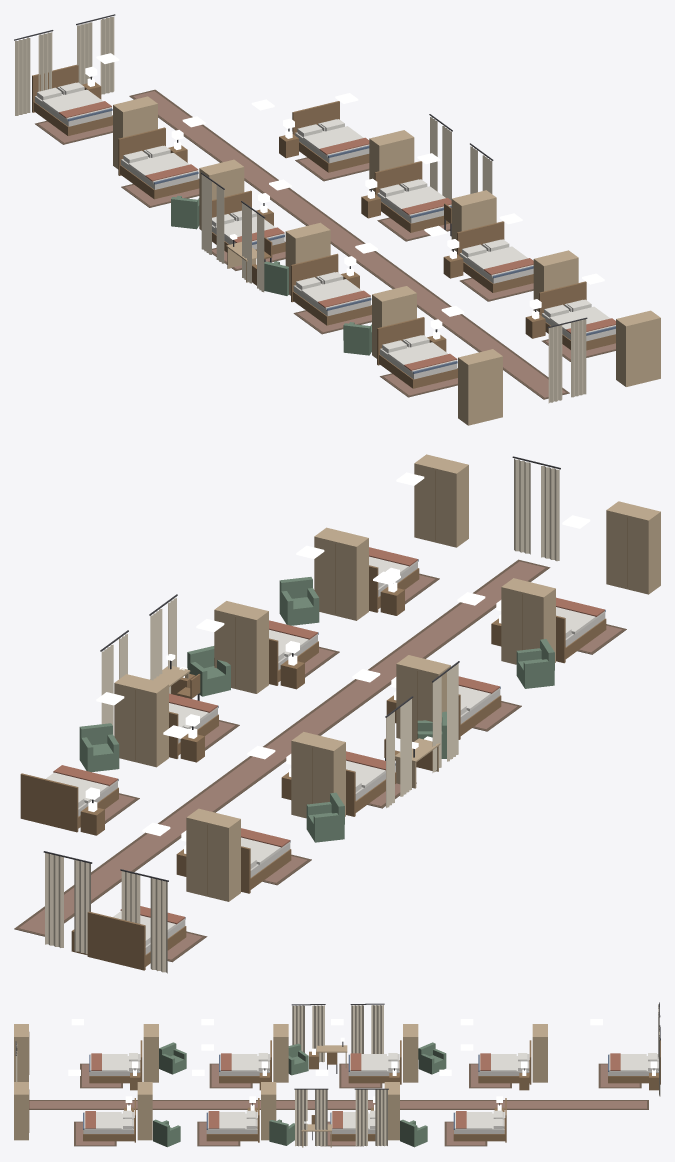
Rendered from fine-s4.glb.
3 views of the same model, one above another, from view 1: azimuth 30°, elevation 25°; view 2: azimuth 150°, elevation 25°; view 3: azimuth 270°, elevation 25° (orthographic). The views are drawn at different scales.
Visible parts, largest first — view 1: soft-s4, dresser.030, dresser.035, bed-frame.032, bed-frame.035, bed-frame.034, bed-frame.029, bed-frame.027, bed-frame.031, bed-frame.028, bed-frame.030, dresser.031 (+10 smaller); view 2: soft-s4, dresser.031, dresser.035, dresser.030, dresser.029, dresser.027, dresser.028, dresser.032, dresser.034, bed-frame.031, bed-frame.027, dresser.033 (+13 smaller); view 3: soft-s4, dresser.031, dresser.032, dresser.029, dresser.033, dresser.034, dresser.030, dresser.035, bed-frame.027, bed-frame.029, dresser.028, bed-frame.030 (+14 smaller).
Part boxes in pixels (bbox=[...]): soft-s4: bbox=[14, 14, 615, 403]; dresser.030: bbox=[616, 310, 660, 386]; dresser.035: bbox=[458, 349, 502, 425]; bed-frame.032: bbox=[118, 127, 199, 199]; bed-frame.035: bbox=[377, 317, 457, 388]; bed-frame.034: bbox=[291, 253, 371, 325]; bed-frame.029: bbox=[457, 221, 533, 292]; bed-frame.027: bbox=[292, 101, 369, 172]; bed-frame.031: bbox=[32, 64, 112, 135]; bed-frame.028: bbox=[374, 161, 451, 232]; bed-frame.030: bbox=[539, 281, 615, 350]; dresser.031: bbox=[113, 96, 157, 169]; soft-s4: bbox=[14, 456, 626, 973]; dresser.031: bbox=[186, 808, 240, 901]; dresser.035: bbox=[606, 501, 660, 594]; dresser.030: bbox=[414, 454, 468, 547]; dresser.029: bbox=[314, 527, 368, 620]; dresser.027: bbox=[114, 674, 168, 767]; dresser.028: bbox=[214, 601, 268, 693]; dresser.032: bbox=[291, 732, 345, 818]; dresser.034: bbox=[501, 578, 555, 664]; bed-frame.031: bbox=[87, 911, 186, 970]; bed-frame.027: bbox=[20, 773, 118, 832]; dresser.033: bbox=[396, 655, 450, 741]; soft-s4: bbox=[15, 1002, 660, 1146]; dresser.031: bbox=[532, 1024, 547, 1082]; dresser.032: bbox=[403, 1024, 418, 1082]; dresser.029: bbox=[137, 1082, 152, 1140]; dresser.033: bbox=[273, 1024, 288, 1082]; dresser.034: bbox=[143, 1024, 158, 1082]; dresser.030: bbox=[14, 1082, 29, 1140]; dresser.035: bbox=[14, 1024, 29, 1081]; bed-frame.027: bbox=[453, 1098, 506, 1142]; bed-frame.029: bbox=[206, 1098, 259, 1142]; dresser.028: bbox=[261, 1082, 276, 1140]; bed-frame.030: bbox=[83, 1098, 135, 1142].
Bounding box in the file's own units: 8.17 × 2.56 × 25.63.
